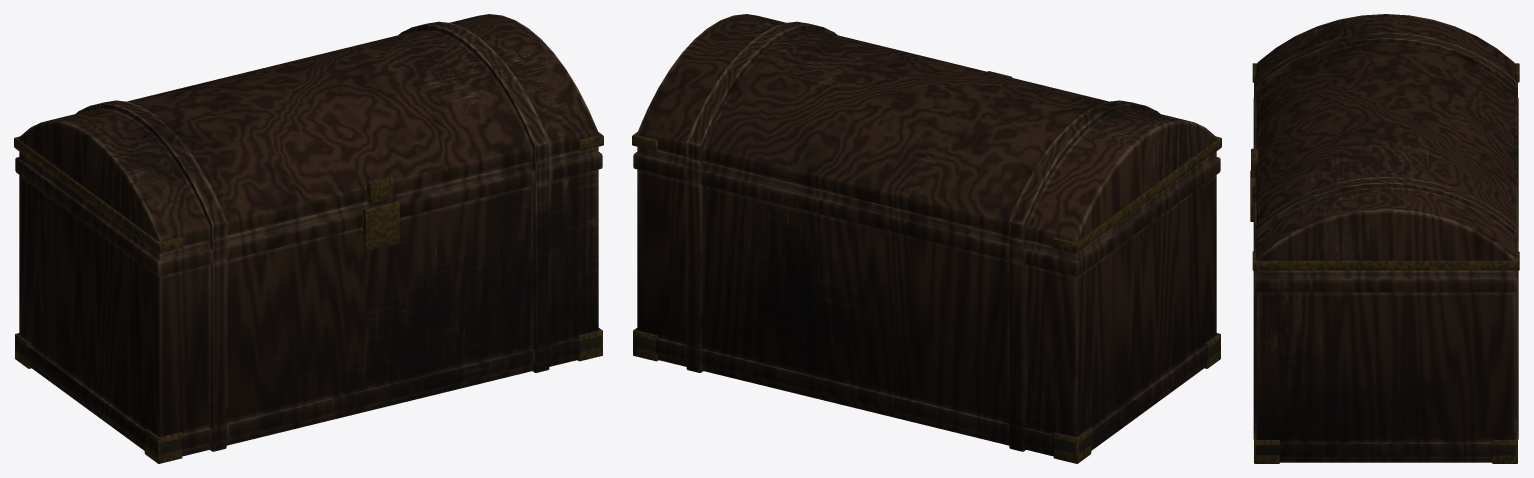
Rendered from attic_trunk.glb.
3 views of the same model, side by side, from view 1: azimuth 30°, elevation 25°; view 2: azimuth 150°, elevation 25°; view 3: azimuth 270°, elevation 25° (orthographic). The views are drawn at different scales.
Parts seen in each view (by area): view 1: Body, Lid, BodyBrass, LidBrass; view 2: Body, Lid, LidBrass, BodyBrass; view 3: Lid, Body, LidBrass, BodyBrass.
Boxes of the visible parts, bbox=[...] form: Body: bbox=[15, 147, 602, 456]; Lid: bbox=[19, 14, 598, 246]; BodyBrass: bbox=[15, 201, 602, 463]; LidBrass: bbox=[14, 132, 603, 253]; Body: bbox=[633, 147, 1220, 456]; Lid: bbox=[637, 14, 1216, 246]; LidBrass: bbox=[632, 71, 1221, 253]; BodyBrass: bbox=[633, 328, 1220, 463]; Lid: bbox=[1254, 14, 1517, 260]; Body: bbox=[1253, 82, 1518, 462]; LidBrass: bbox=[1251, 63, 1519, 270]; BodyBrass: bbox=[1250, 170, 1517, 463].
Bounding box in the file's own units: 0.91 × 0.55 × 0.52.
4 materials, 4 textured.
